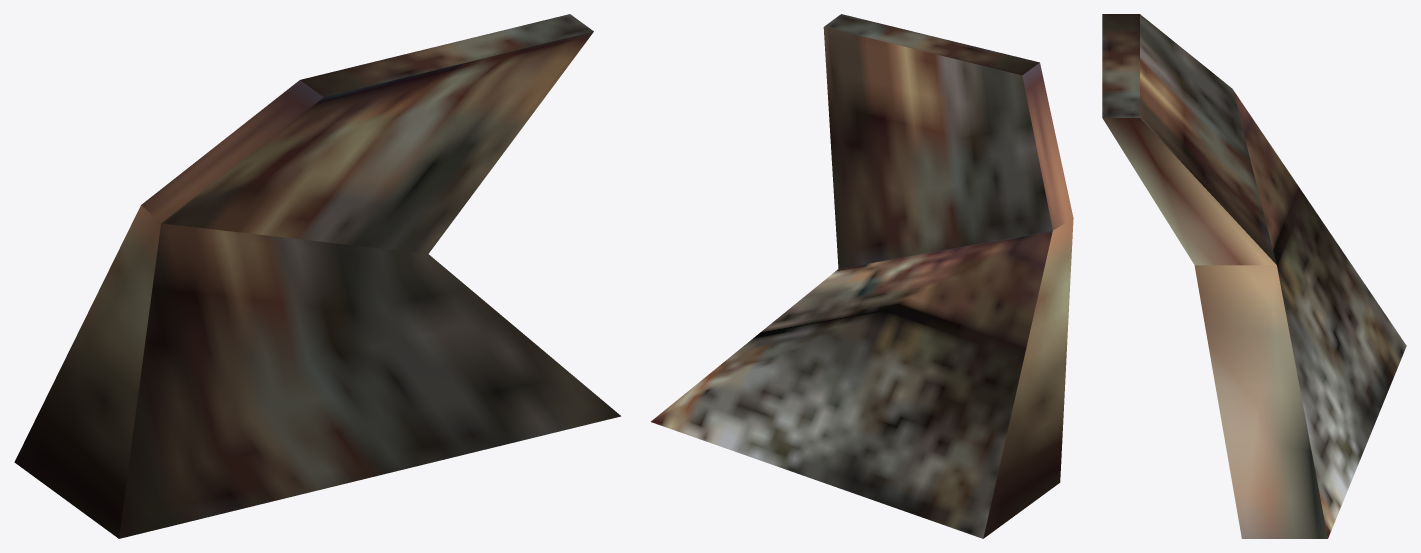
The model's file is USA - Base Infrastructure - Power Plant - Damage State 24 - ABPWRPLANT_d24.glb.
3 renders of one model, left to right at view 1: azimuth 30°, elevation 25°; view 2: azimuth 150°, elevation 25°; view 3: azimuth 270°, elevation 25°, orthographic. The views are drawn at different scales.
Parts seen in each view (by area): view 1: ABPWRPLANT_D24; view 2: ABPWRPLANT_D24; view 3: ABPWRPLANT_D24.
Part boxes in pixels (box(x1,y1,x2,y2)): ABPWRPLANT_D24: box(14, 14, 620, 538); ABPWRPLANT_D24: box(651, 14, 1073, 538); ABPWRPLANT_D24: box(1102, 14, 1406, 538).
Size of the model in its own units: 9.14 by 8.31 by 6.09.
Materials: 1 (1 with a texture image).
